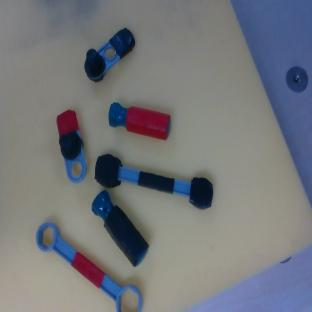part_1_bad: (75, 21, 140, 85)
part_1_good: (51, 109, 92, 184)
part_2_bad: (86, 189, 154, 268)
part_2_good: (105, 102, 173, 141)
part_3_bad: (91, 152, 217, 214)
part_3_good: (27, 218, 151, 312)
